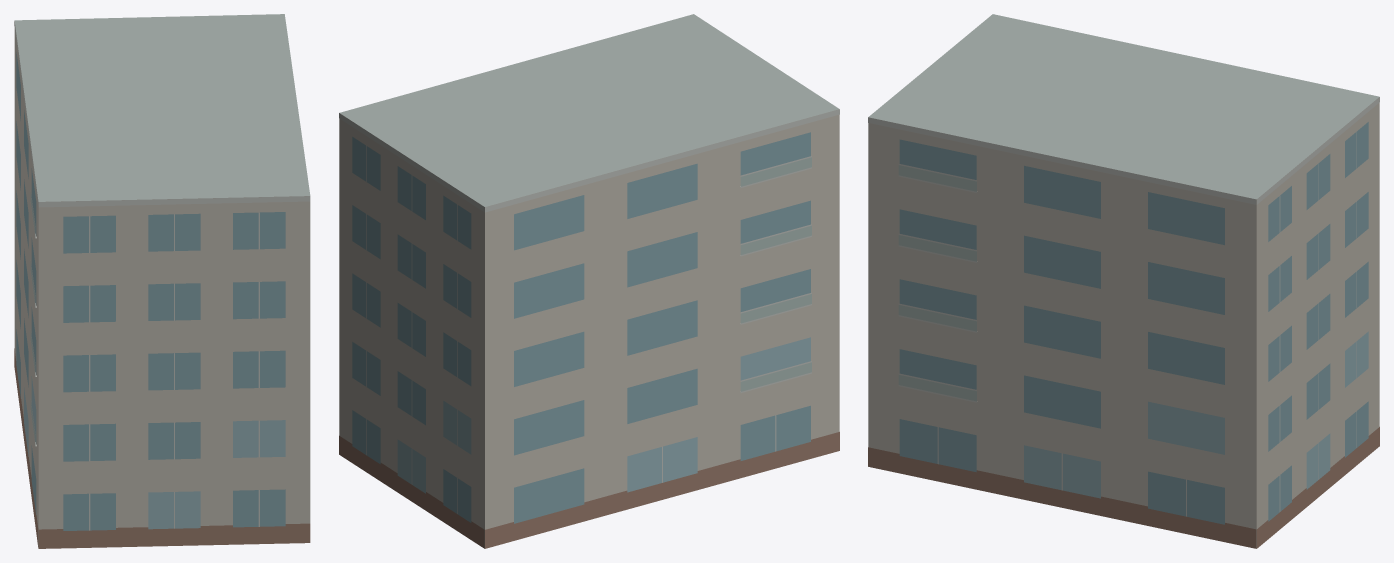
The model's file is survey-upis-32823374.glb.
3 views of the same model, side by side, from view 1: azimuth 30°, elevation 25°; view 2: azimuth 150°, elevation 25°; view 3: azimuth 270°, elevation 25° (orthographic). The views are drawn at different scales.
Parts seen in each view (by area): view 1: survey-upis-32823374.tmp; view 2: survey-upis-32823374.tmp; view 3: survey-upis-32823374.tmp.
Boxes of the visible parts, <box> form: survey-upis-32823374.tmp: <box>14,14,310,548</box>; survey-upis-32823374.tmp: <box>339,14,839,548</box>; survey-upis-32823374.tmp: <box>868,14,1379,548</box>.
Size of the model in its own units: 17.36 by 15.25 by 20.24.
